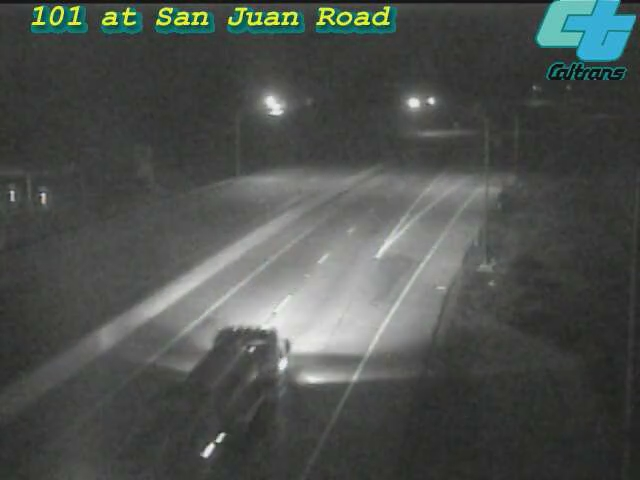vehicle: (164, 341, 274, 451)
